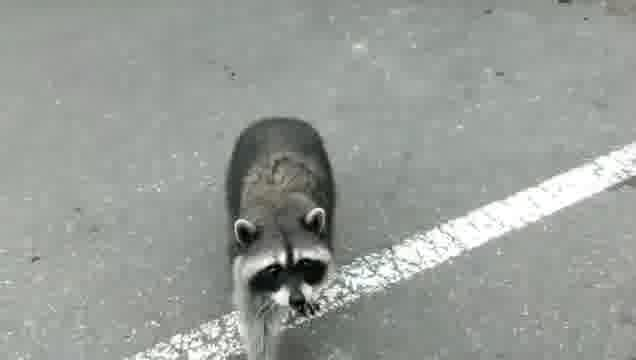raccoon: (226, 117, 336, 360)
